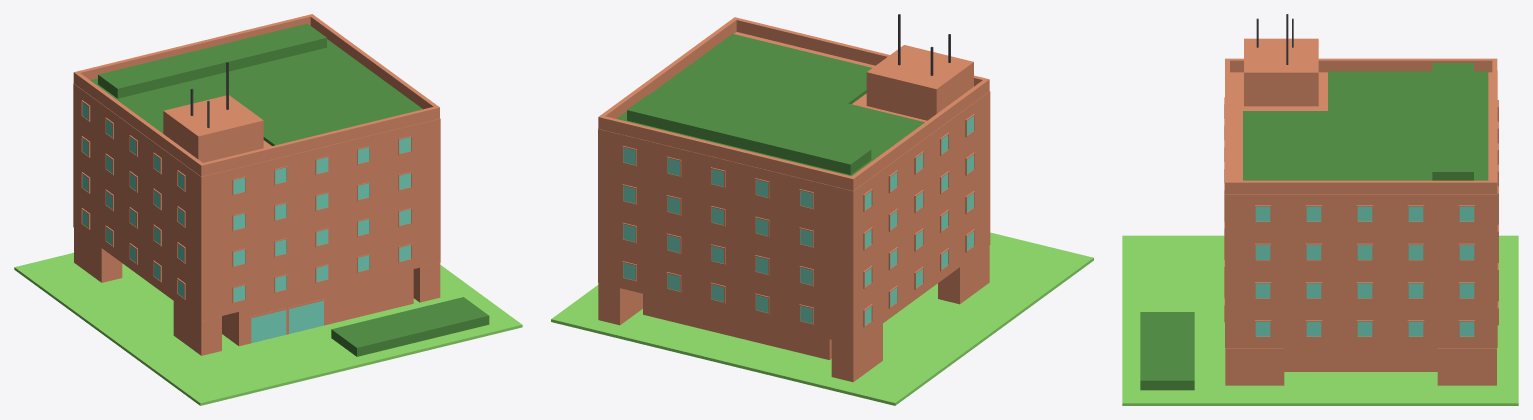
File: building_4_etages.fbx
3 views of the same model, side by side, from view 1: azimuth 30°, elevation 25°; view 2: azimuth 150°, elevation 25°; view 3: azimuth 270°, elevation 25° (orthographic). The views are drawn at different scales.
Visible parts, largest first — view 1: etages.001, jardin.003, jardin_toit.002, niveau_0.001, building_top, jardin_toit.003, maison_toit.001, jardin.002; view 2: etages.001, jardin.003, jardin_toit.002, building_top, niveau_0.001, jardin_toit.003, maison_toit.001; view 3: etages.001, jardin.003, jardin_toit.002, niveau_0.001, building_top, maison_toit.001, jardin_toit.003, jardin.002.
Boxes of the visible parts, x1,y1,x2,y2 form: etages.001: (73, 83, 440, 320); jardin.003: (14, 252, 522, 405); jardin_toit.002: (90, 39, 422, 145); niveau_0.001: (74, 228, 440, 355); building_top: (73, 14, 439, 176); jardin_toit.003: (98, 23, 326, 98); maison_toit.001: (163, 95, 263, 162); jardin.002: (331, 297, 489, 356); etages.001: (598, 32, 990, 344); jardin.003: (551, 232, 1093, 405); jardin_toit.002: (616, 34, 924, 176); building_top: (598, 17, 989, 190); niveau_0.001: (598, 245, 989, 382); jardin_toit.003: (627, 95, 871, 174); maison_toit.001: (866, 45, 973, 120); etages.001: (1224, 70, 1498, 347); jardin.003: (1122, 235, 1518, 405); jardin_toit.002: (1243, 71, 1488, 180); niveau_0.001: (1225, 348, 1496, 385); building_top: (1225, 58, 1497, 194); maison_toit.001: (1244, 38, 1318, 106); jardin_toit.003: (1432, 63, 1473, 180); jardin.002: (1140, 312, 1194, 390).
Bounding box in the file's own units: 2600 × 2017 × 2600.
